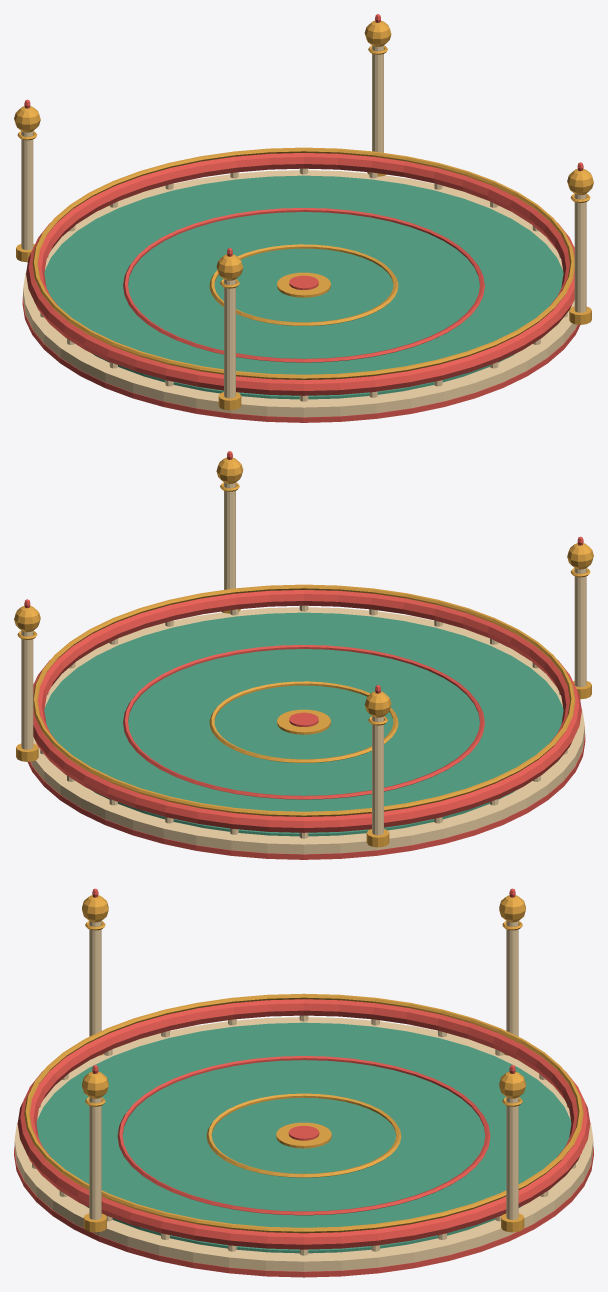
Rendered from ParkParkBumperPlatform.obj.
The picture shows the model from 3 angles, top to bottom: view 1: azimuth 30°, elevation 25°; view 2: azimuth 150°, elevation 25°; view 3: azimuth 270°, elevation 25°; orthographic projection. The views are drawn at different scales.
Visible parts, largest first — view 1: ParkParkBumperPlatform; view 2: ParkParkBumperPlatform; view 3: ParkParkBumperPlatform.
Part boxes in pixels (x1,y1,x2,y2): ParkParkBumperPlatform: (14,14,593,422); ParkParkBumperPlatform: (14,451,593,859); ParkParkBumperPlatform: (14,888,593,1277).
Size of the model in its own units: 20.84 by 7.07 by 20.84.
